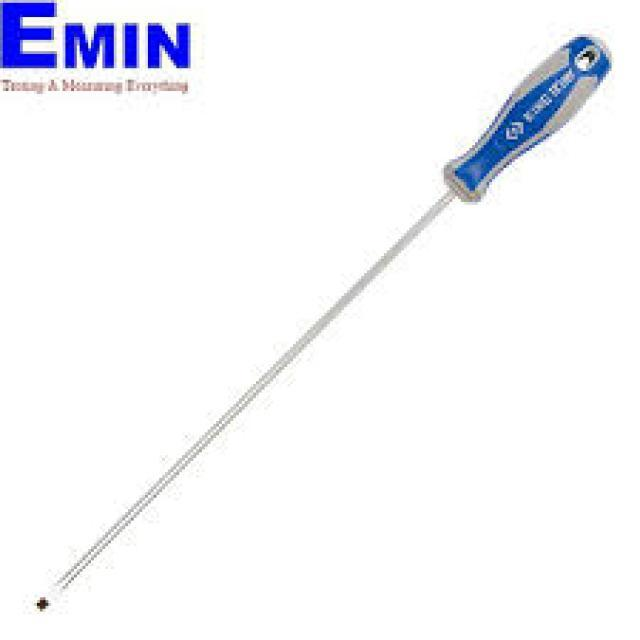screwdriver: (28, 34, 614, 612)
